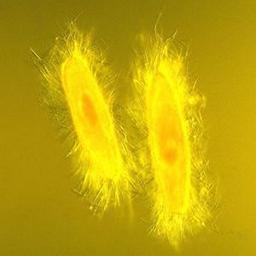Paramecium: (60, 54, 123, 179), (149, 70, 190, 210)
